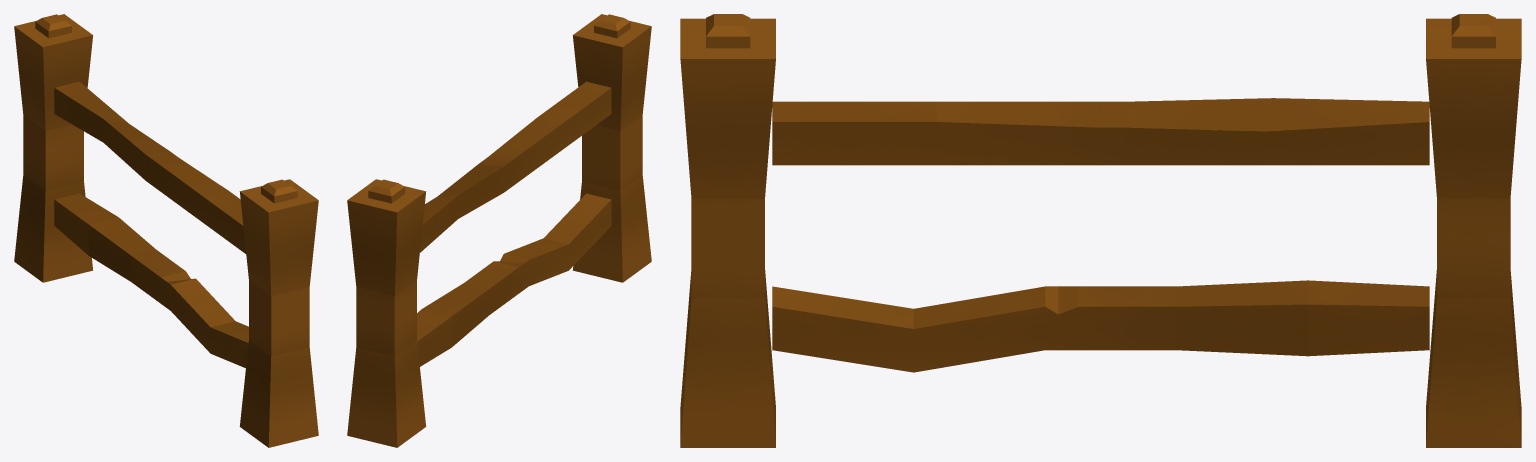
File: fence_full.fbx
The picture shows the model from 3 angles, left to right: view 1: azimuth 30°, elevation 25°; view 2: azimuth 150°, elevation 25°; view 3: azimuth 270°, elevation 25°; orthographic projection. The views are drawn at different scales.
Visible parts, largest first — view 1: Fence_Full EXP; view 2: Fence_Full EXP; view 3: Fence_Full EXP.
Boxes of the visible parts, x1,y1,x2,y2 form: Fence_Full EXP: [14, 14, 318, 447]; Fence_Full EXP: [347, 14, 651, 447]; Fence_Full EXP: [680, 14, 1521, 447].
Size of the model in its own units: 22.28 by 105 by 196.
1 material, 1 textured.
